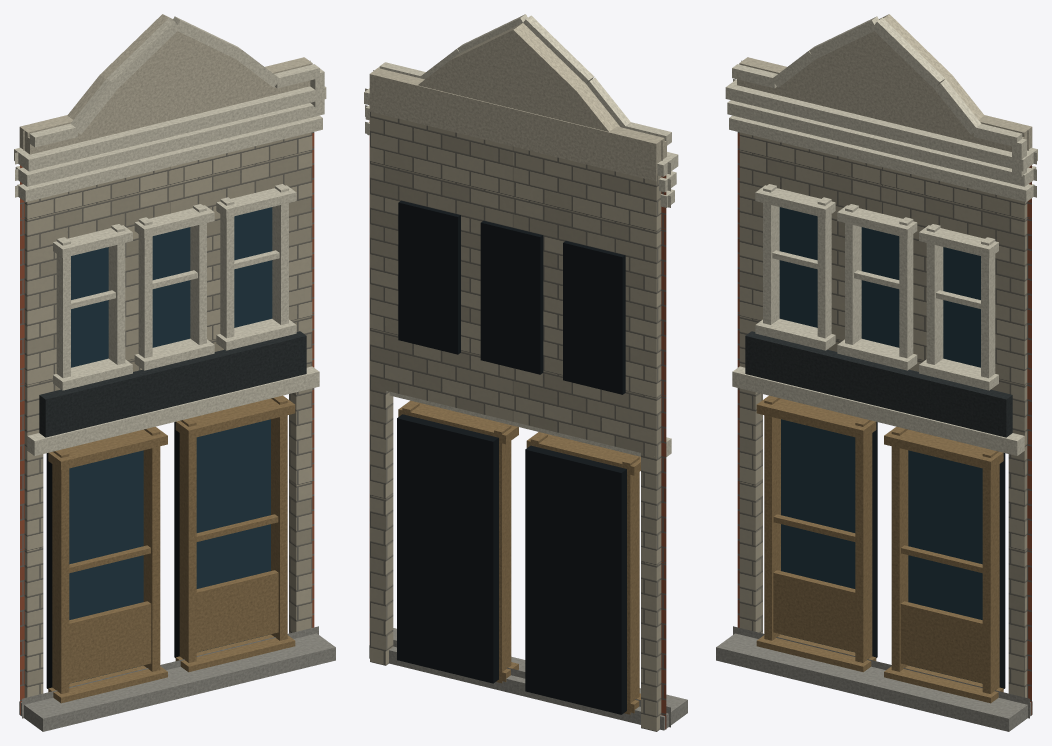
Rendered from CLSTGA16_lod2.glb.
3 views of the same model, side by side, from view 1: azimuth 30°, elevation 25°; view 2: azimuth 150°, elevation 25°; view 3: azimuth 330°, elevation 25° (orthographic).
Visible parts, largest first — view 1: CLSTGA16_FRONT_LOD2; view 2: CLSTGA16_FRONT_LOD2; view 3: CLSTGA16_FRONT_LOD2.
Part boxes in pixels (x1,y1,x2,y2): CLSTGA16_FRONT_LOD2: [14, 14, 335, 731]; CLSTGA16_FRONT_LOD2: [364, 14, 687, 731]; CLSTGA16_FRONT_LOD2: [716, 14, 1037, 731].
Size of the model in its own units: 3.84 by 8.05 by 0.68.
10 materials, 8 textured.
